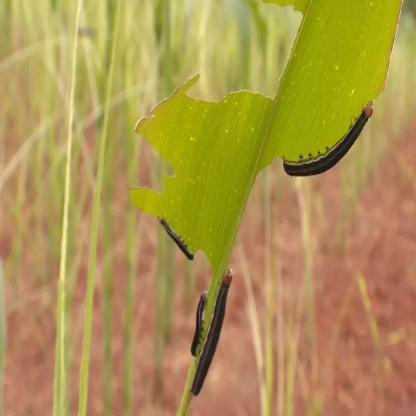armyworm: (277, 104, 378, 181), (192, 268, 232, 395), (157, 214, 196, 266), (190, 284, 212, 361)
